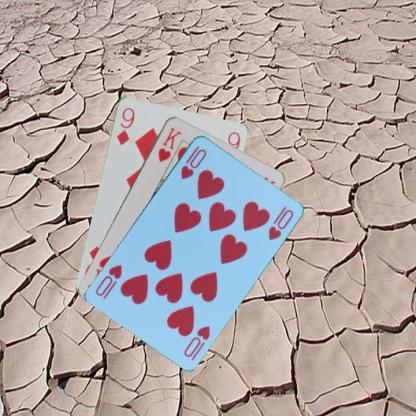10h: (178, 143, 208, 180), (181, 322, 211, 358)
9d: (114, 105, 136, 146)
Kh: (155, 124, 182, 163)
